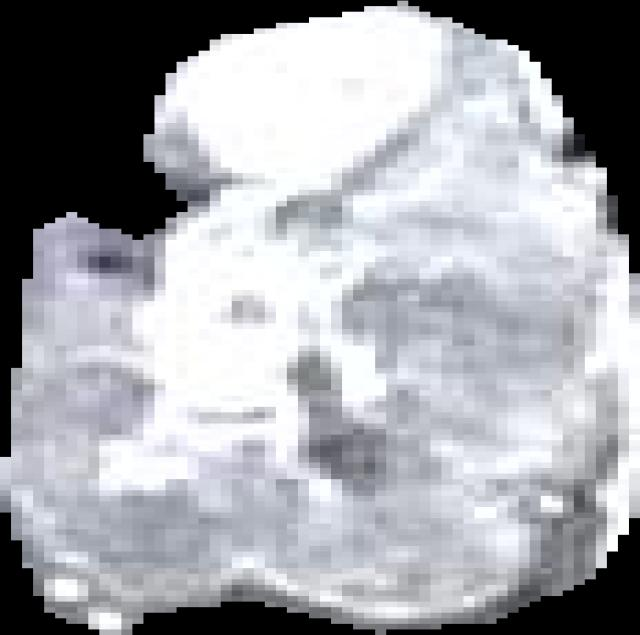tumor_less_chance: (0, 1, 640, 635)
